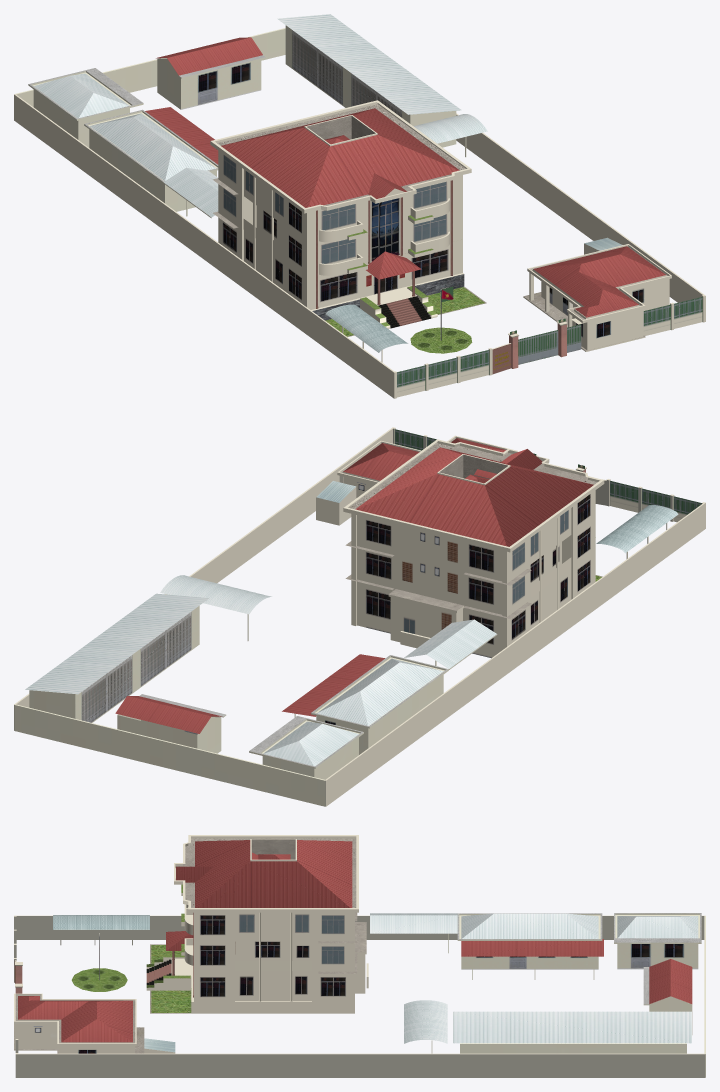
The model's file is So Tu Phap.glb.
3 views of the same model, one above another, from view 1: azimuth 30°, elevation 25°; view 2: azimuth 150°, elevation 25°; view 3: azimuth 270°, elevation 25° (orthographic). The views are drawn at different scales.
Visible parts, largest first — view 1: Group_028, Layer0_001, Group_054, Group_002, Group_054.001; view 2: Layer0_001, Group_028, Group_054, Group_002; view 3: Group_028, Layer0_001, Group_054, Group_002, Group_054.001.
Boxes of the visible parts, box(x1,y1,x2,y2) form: Group_028: box(210, 100, 486, 336); Layer0_001: box(15, 14, 487, 218); Group_054: box(14, 94, 705, 398); Group_002: box(523, 237, 671, 351); Group_054.001: box(410, 286, 472, 353); Layer0_001: box(14, 575, 497, 806); Group_028: box(343, 439, 604, 658); Group_054: box(14, 427, 705, 806); Group_002: box(316, 435, 517, 525); Group_028: box(146, 835, 368, 1013); Layer0_001: box(370, 913, 705, 1077); Group_054: box(14, 915, 705, 1077); Group_002: box(14, 993, 175, 1053); Group_054.001: box(71, 933, 127, 991).
Bounding box in the file's own units: 38.84 × 16.91 × 81.92.
4 materials, 4 textured.
